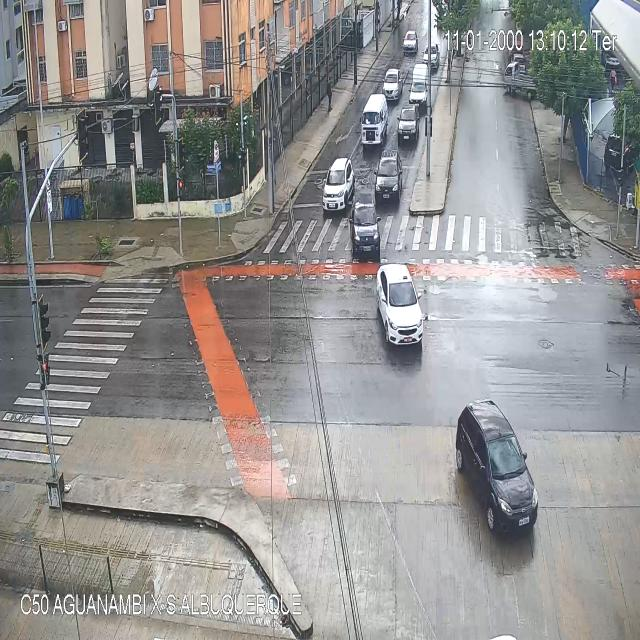Car: (457, 400, 537, 537), (376, 264, 423, 344), (349, 195, 381, 263), (323, 157, 353, 213), (360, 94, 388, 144), (374, 152, 403, 200), (396, 106, 419, 145), (410, 65, 430, 107), (382, 68, 399, 102), (422, 43, 439, 71), (403, 28, 418, 57)
Truck: (503, 63, 538, 102)
